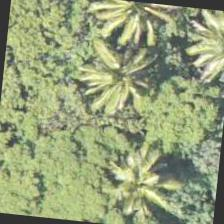Kelapa_Sawit: (70, 22, 169, 121), (99, 130, 199, 223), (83, 0, 179, 55), (178, 7, 223, 99)
